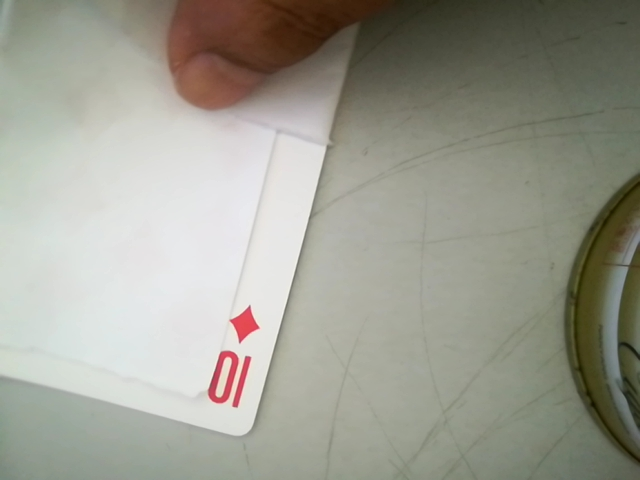fk 10: (198, 299, 270, 429)
